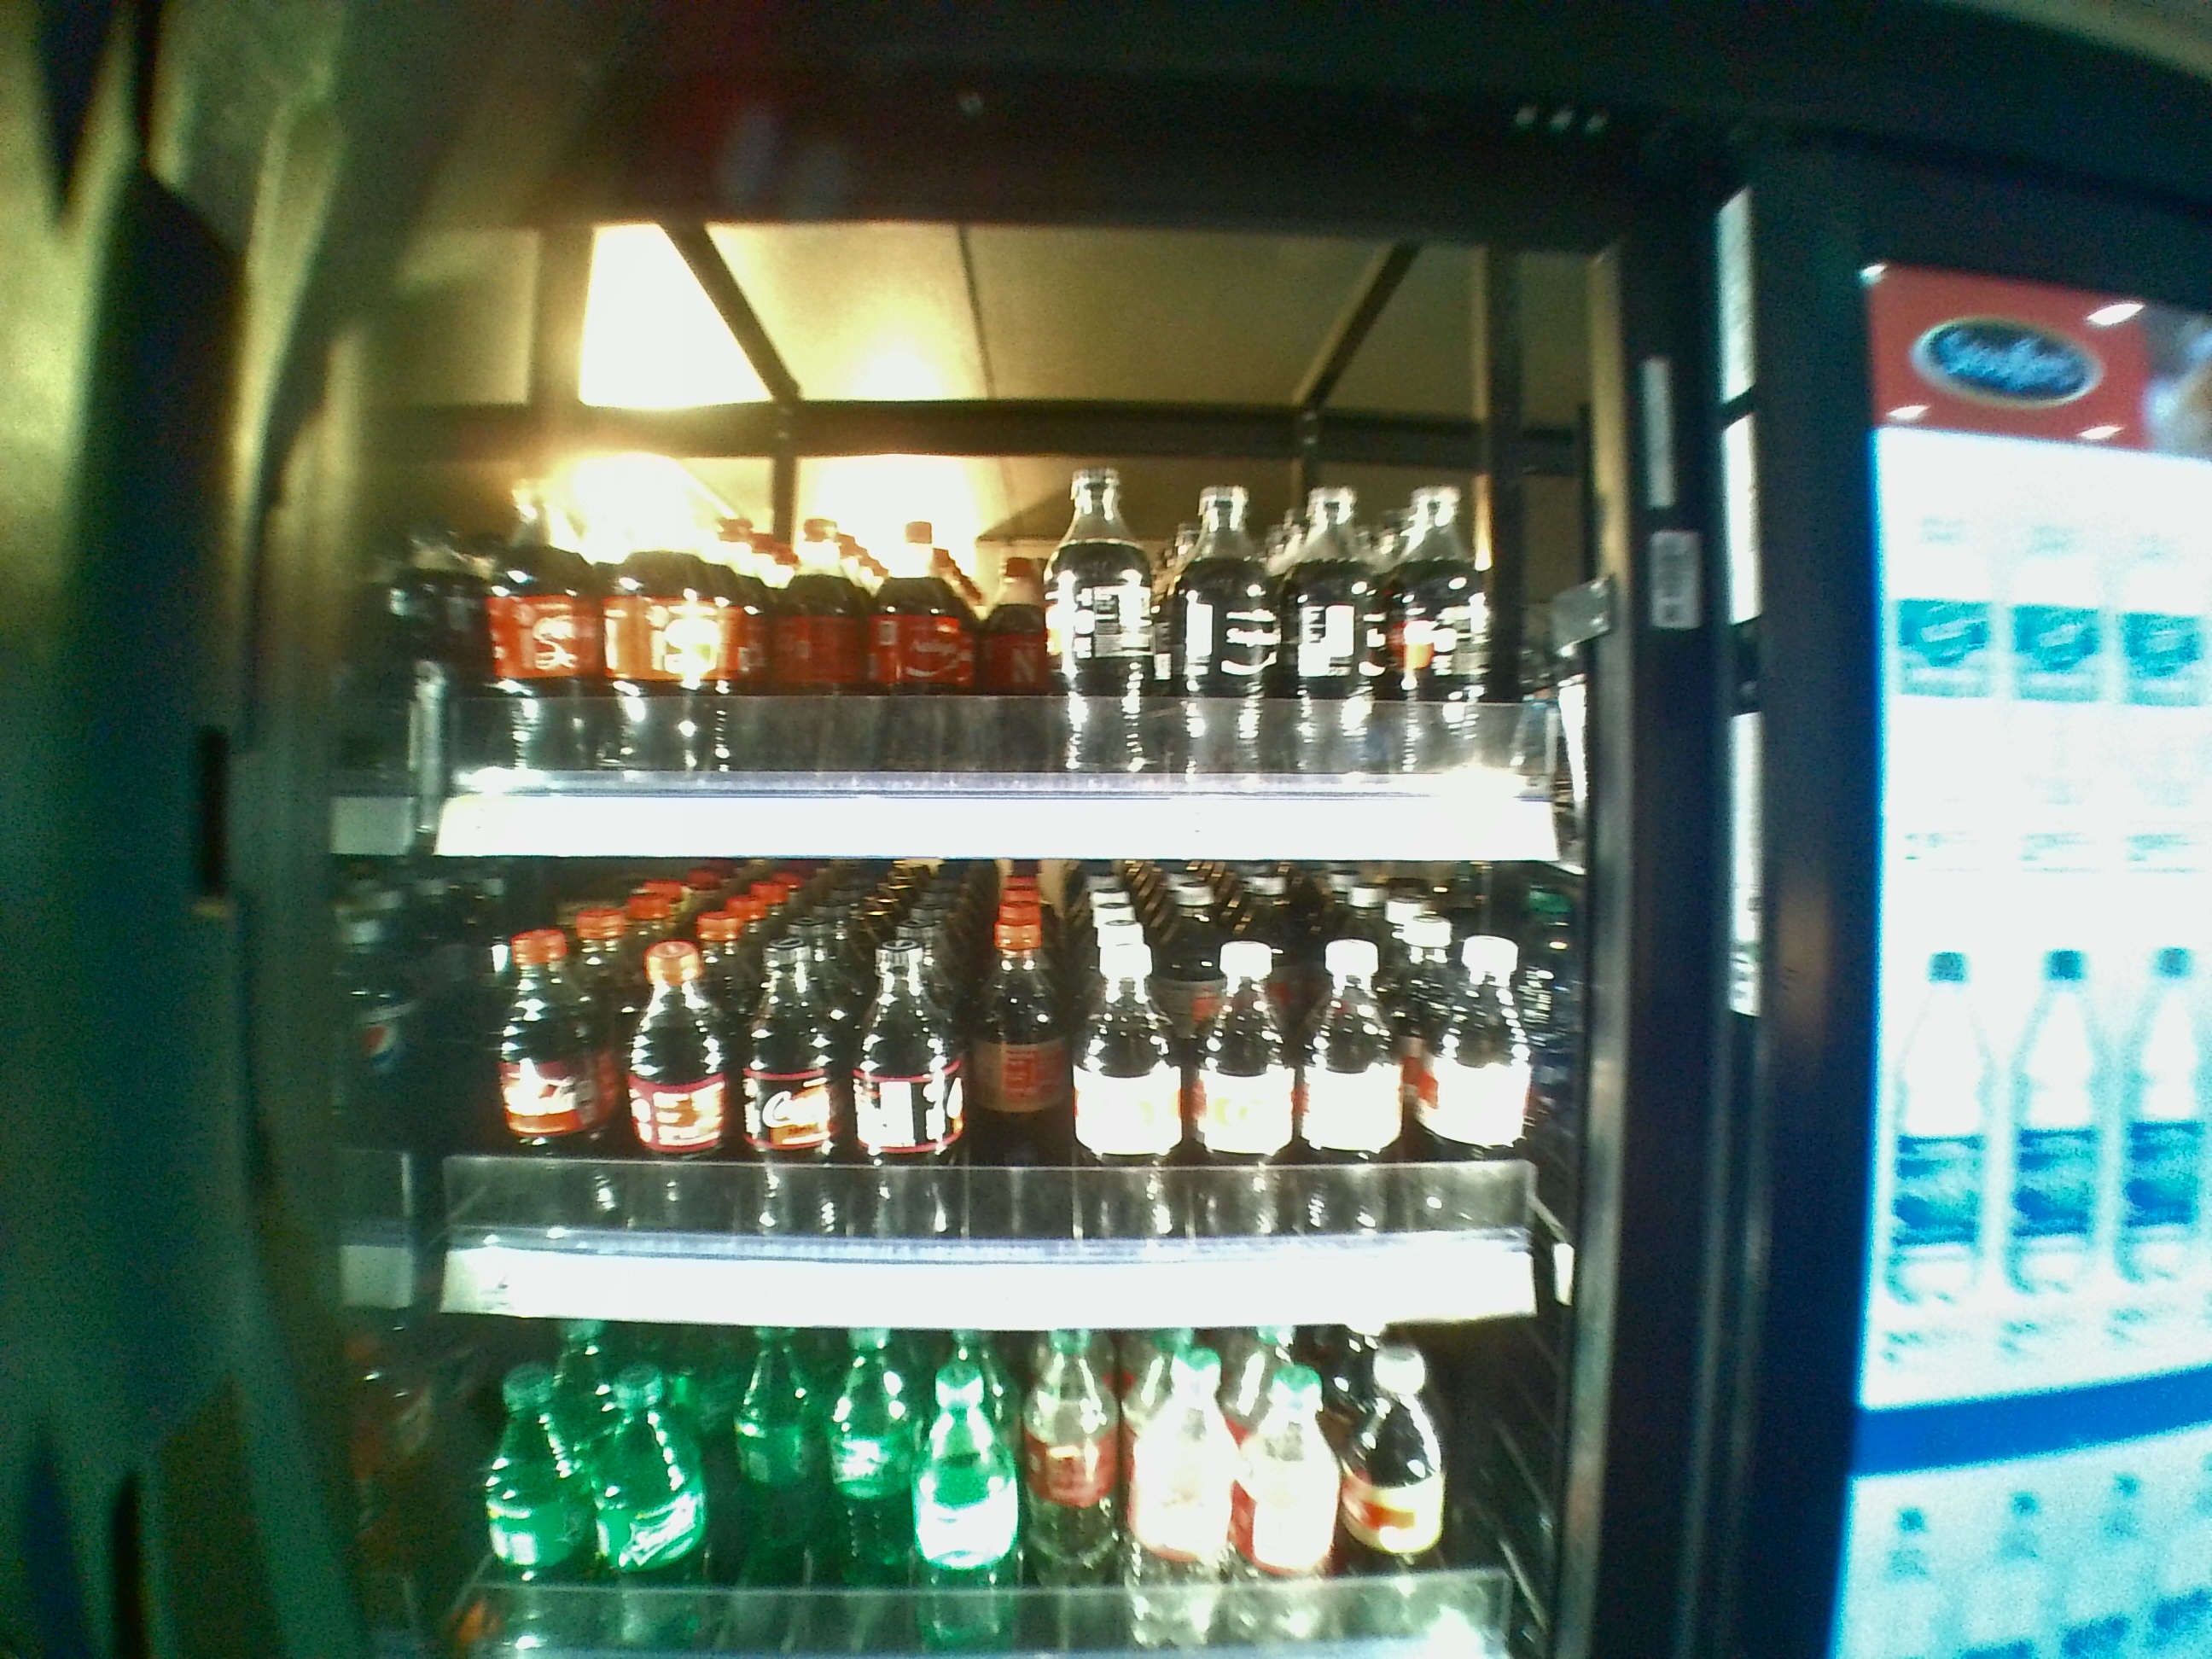Shelf: (406, 216, 1604, 854), (406, 854, 1615, 1333)
